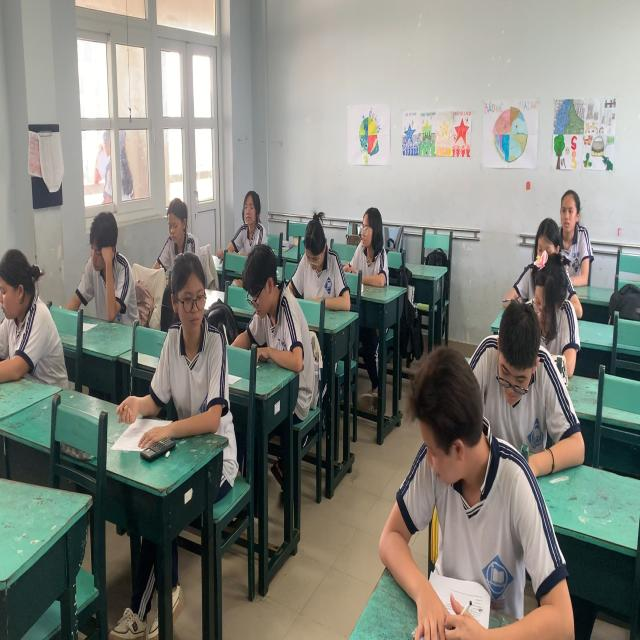cheating: (394, 364, 507, 640), (163, 258, 234, 443)
not_cheating: (489, 296, 579, 464), (0, 243, 59, 395), (524, 257, 580, 388), (81, 215, 140, 330), (239, 247, 293, 364), (299, 205, 355, 316), (553, 185, 596, 295), (346, 188, 392, 288), (149, 201, 200, 261), (229, 178, 269, 233), (532, 215, 560, 275)
